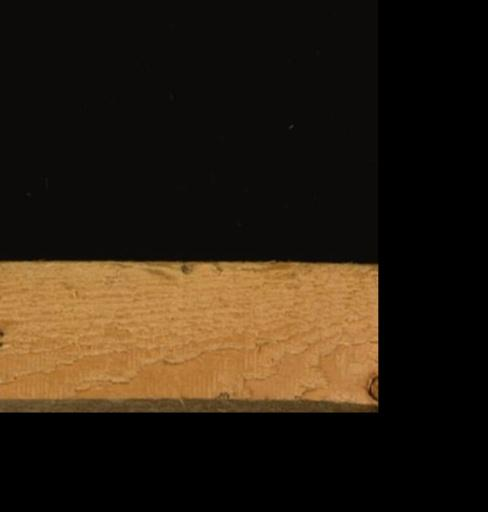dry_knot: (366, 372, 376, 402)
